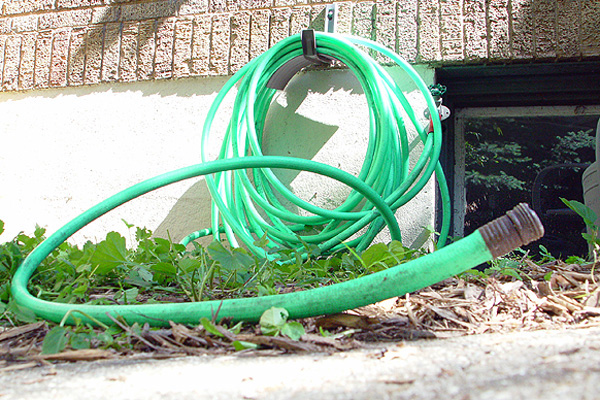Nonrec_Tangler: (37, 5, 560, 334)
